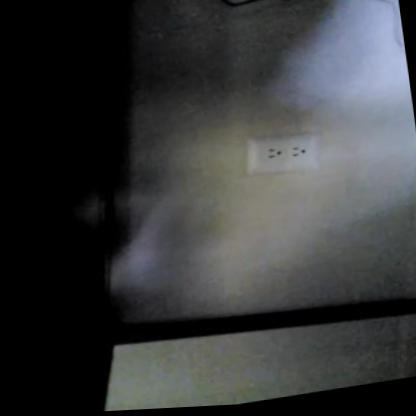OUTLET: (241, 128, 323, 180)
